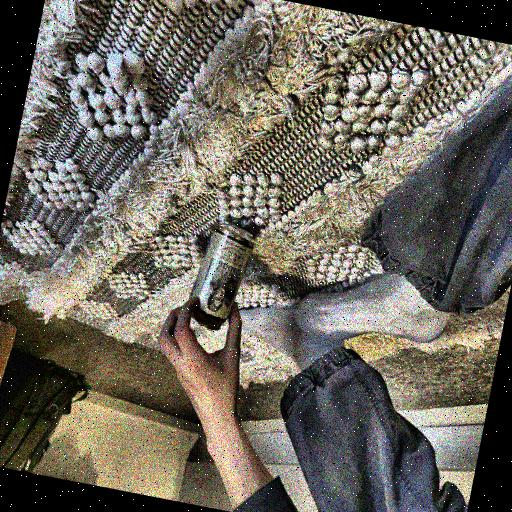sandels: (173, 203, 264, 338)
